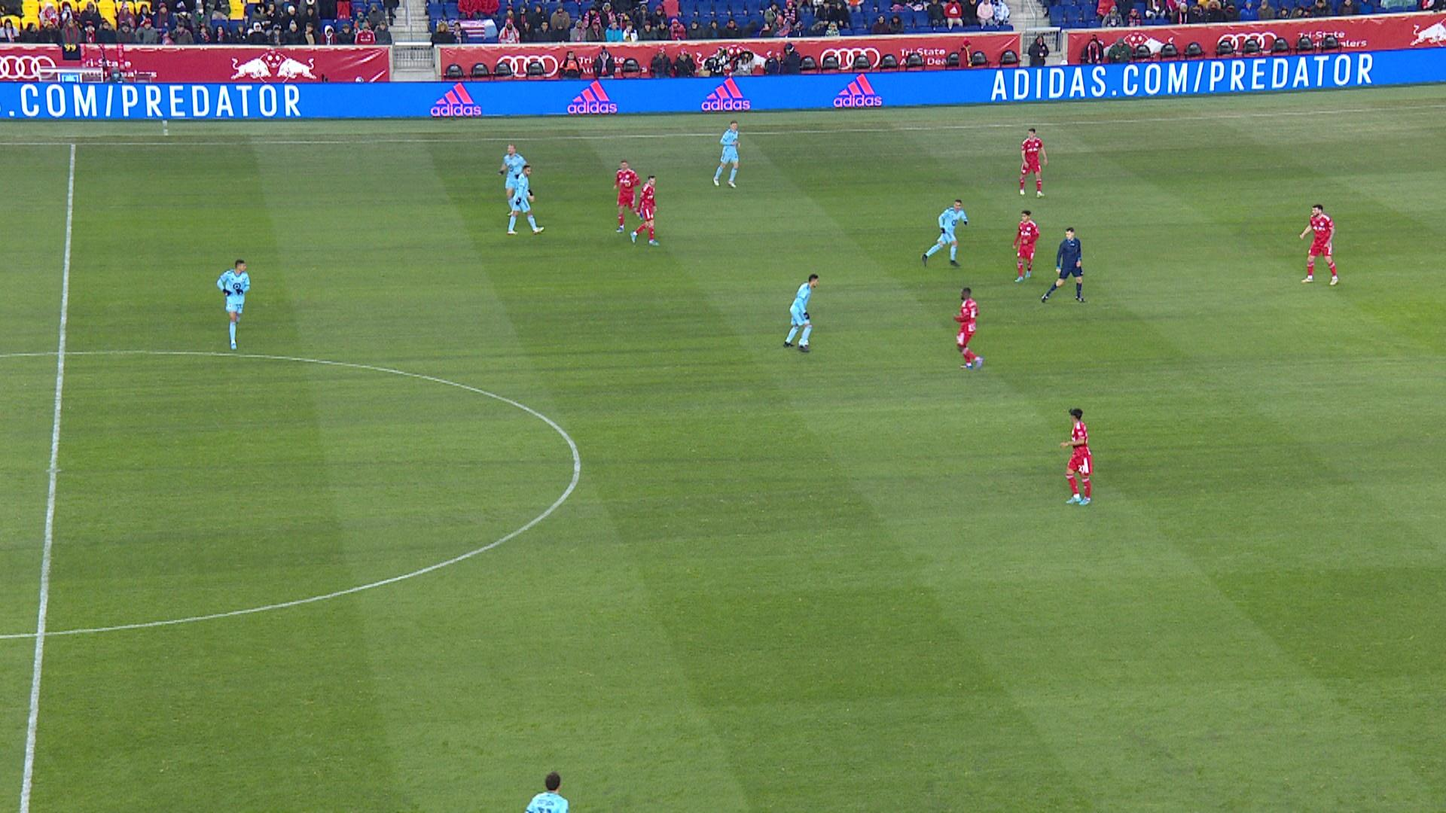Player: (1300, 205, 1339, 285), (1060, 409, 1092, 506), (922, 200, 968, 267), (217, 260, 250, 350), (783, 275, 819, 353), (507, 165, 544, 235), (952, 288, 983, 370), (630, 175, 660, 247), (499, 144, 528, 216), (613, 161, 641, 232), (1012, 210, 1039, 282), (1020, 128, 1047, 199), (713, 120, 741, 188), (525, 772, 569, 813), (528, 186, 534, 197), (640, 207, 644, 220)
referee: (1041, 228, 1085, 303)
